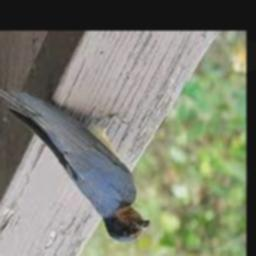Swallow: (0, 70, 150, 244)
